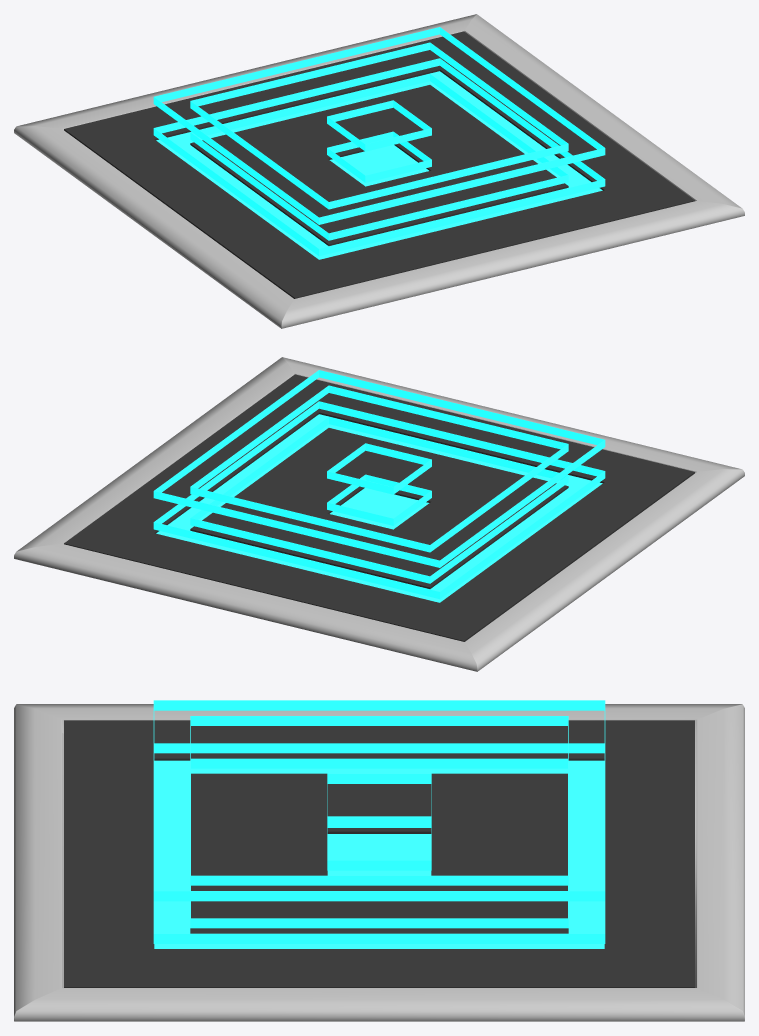
Rendered from JumpPad.fbx.
The picture shows the model from 3 angles, top to bottom: view 1: azimuth 30°, elevation 25°; view 2: azimuth 150°, elevation 25°; view 3: azimuth 270°, elevation 25°; orthographic projection. The views are drawn at different scales.
Visible parts, largest first — view 1: Cube, Cube.001, Cube.002; view 2: Cube, Cube.001, Cube.002; view 3: Cube, Cube.001, Cube.002.
Part boxes in pixels (x1,y1,x2,y2): Cube: [14, 14, 744, 328]; Cube.001: [153, 27, 605, 224]; Cube.002: [153, 58, 605, 256]; Cube: [14, 357, 744, 671]; Cube.001: [153, 370, 605, 567]; Cube.002: [153, 401, 605, 599]; Cube: [14, 704, 744, 1021]; Cube.001: [153, 700, 605, 901]; Cube.002: [153, 743, 605, 943].
Bounding box in the file's own units: 5 × 0.5373 × 5.
